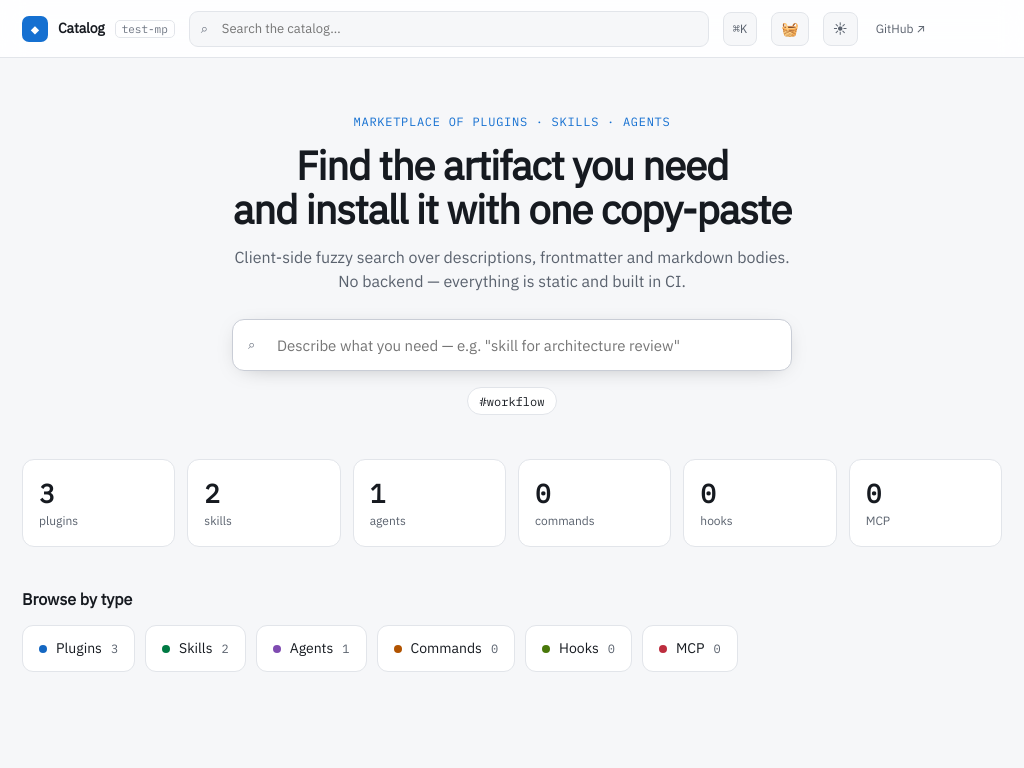
Test case: overlays › jumps to an artifact from the command palette with the keyboard
Check: the heading "Find the artifact" is shown, box [233, 139, 791, 235]
Type keys "{Control>}k{/Control}"
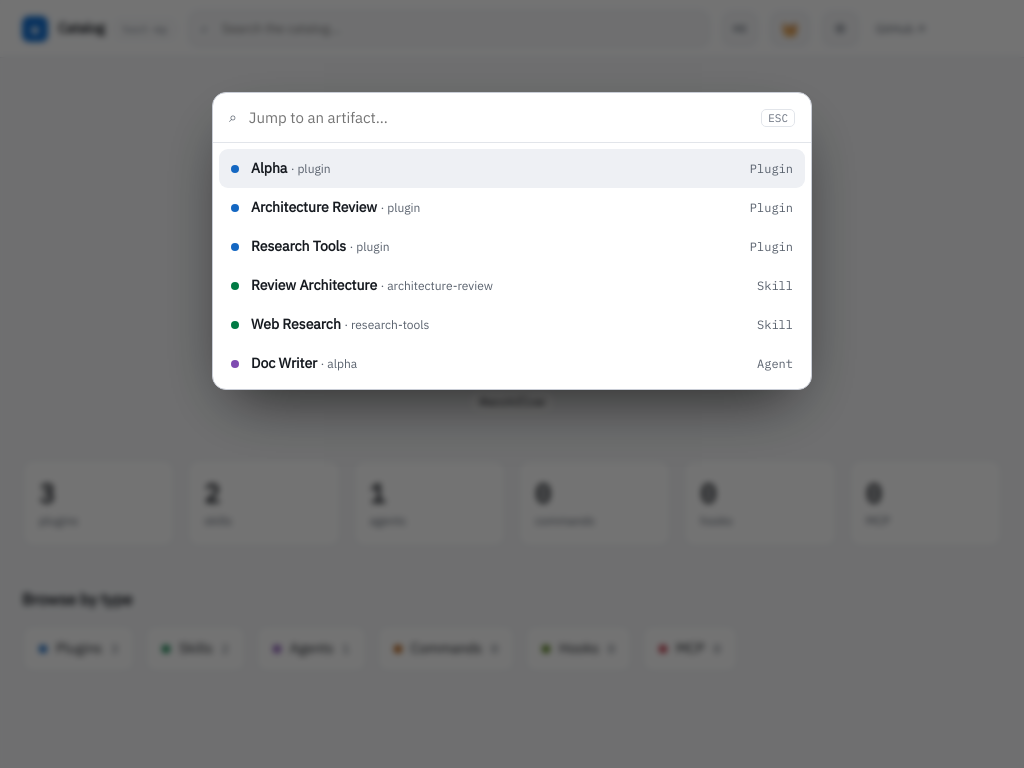
Type "doc writer" into the field labelled "Jump to an artifact".
click(499, 118); type("doc writer")  # box [247, 107, 751, 128]
Then press Enter
(page scrolled)
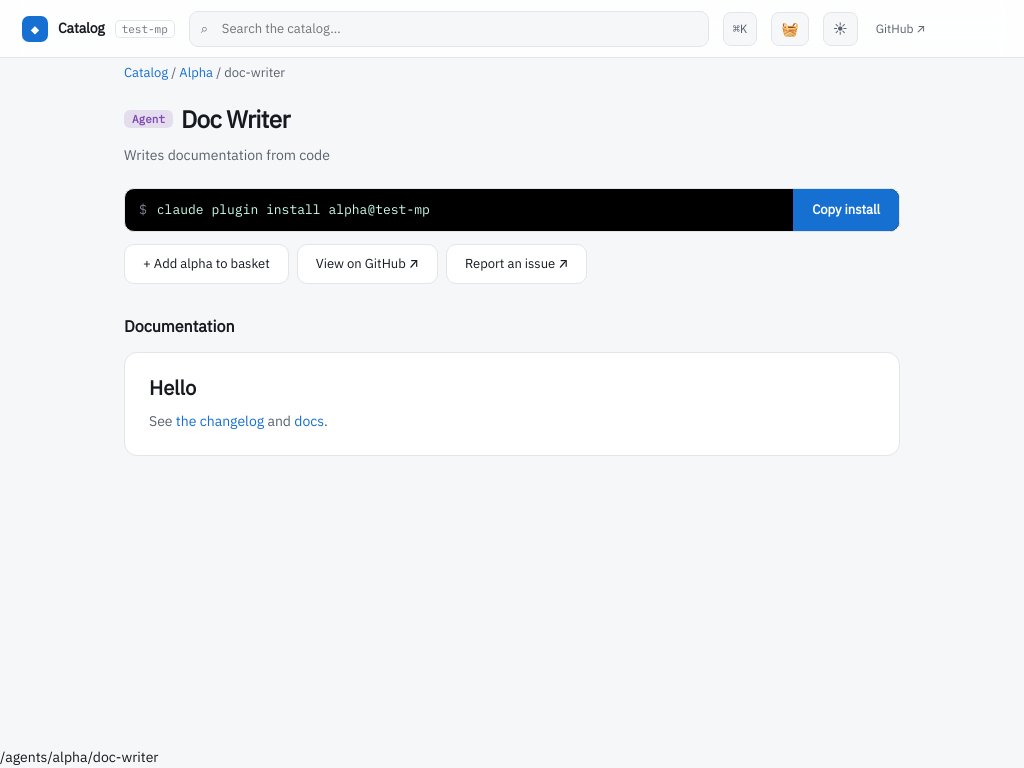
Check: the heading "Doc Writer" is shown, box [181, 100, 290, 136]
Check: the text with test id "location" reads "/agents/alpha/doc-writer", box [0, 748, 158, 766]
Check: the dialog is gone
